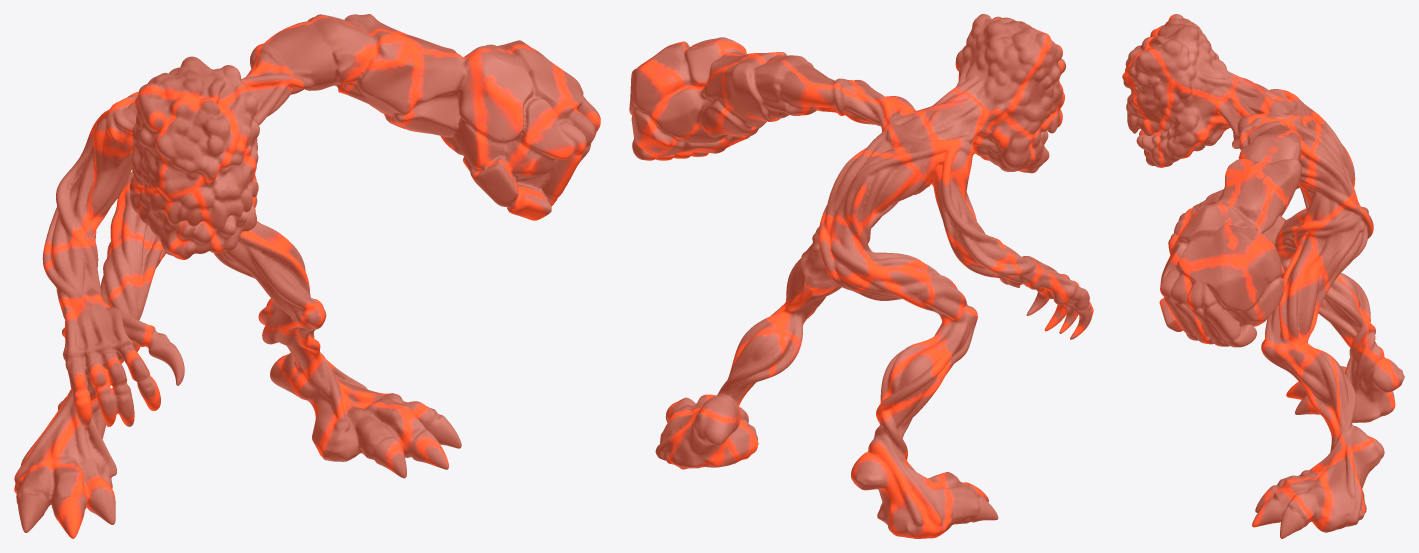
The picture shows the model from 3 angles, left to right: view 1: azimuth 30°, elevation 25°; view 2: azimuth 150°, elevation 25°; view 3: azimuth 270°, elevation 25°; orthographic projection. The views are drawn at different scales.
Visible parts, largest first — view 1: mesh_node; view 2: mesh_node; view 3: mesh_node.
Part boxes in pixels (x1,y1,x2,y2): mesh_node: (14,14,600,538); mesh_node: (629,14,1093,538); mesh_node: (1122,14,1404,538).
Bounding box in the file's own units: 190 × 178 × 115.
